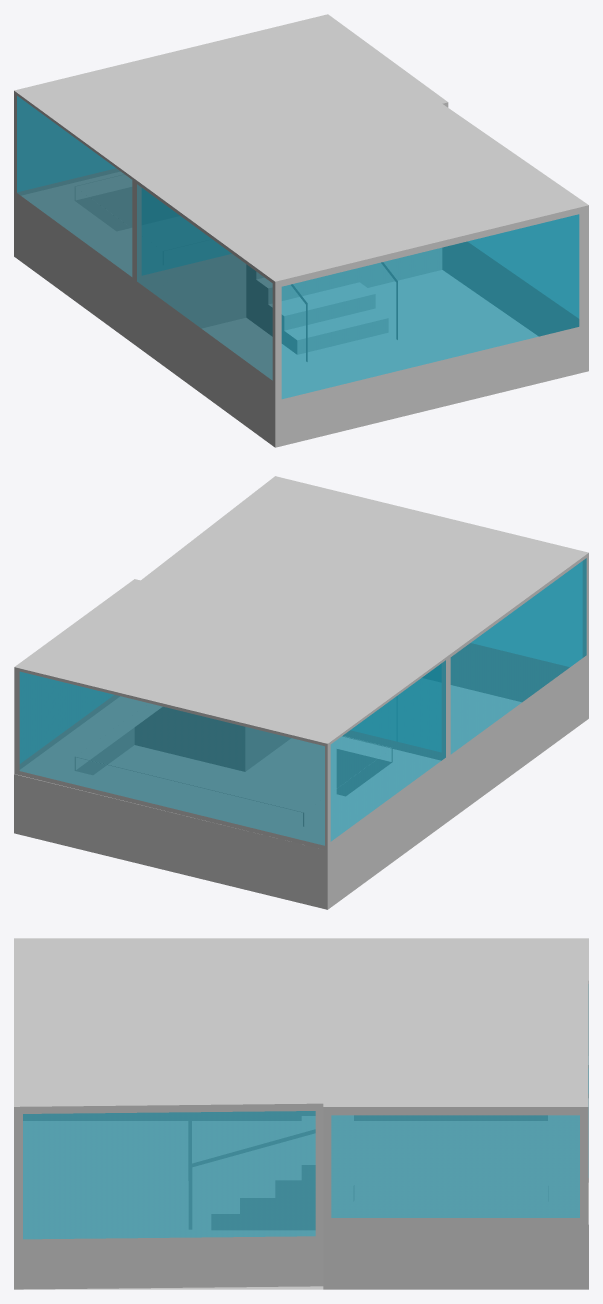
Rendered from glass-room.fbx.
The picture shows the model from 3 angles, top to bottom: view 1: azimuth 30°, elevation 25°; view 2: azimuth 150°, elevation 25°; view 3: azimuth 270°, elevation 25°; orthographic projection. The views are drawn at different scales.
Visible parts, largest first — view 1: Model; view 2: Model; view 3: Model.
Boxes of the visible parts, bbox=[...] form: Model: bbox=[14, 14, 588, 447]; Model: bbox=[14, 476, 588, 909]; Model: bbox=[14, 938, 588, 1289].
Bounding box in the file's own units: 1.46e+07 × 7394580 × 2.11e+07.
